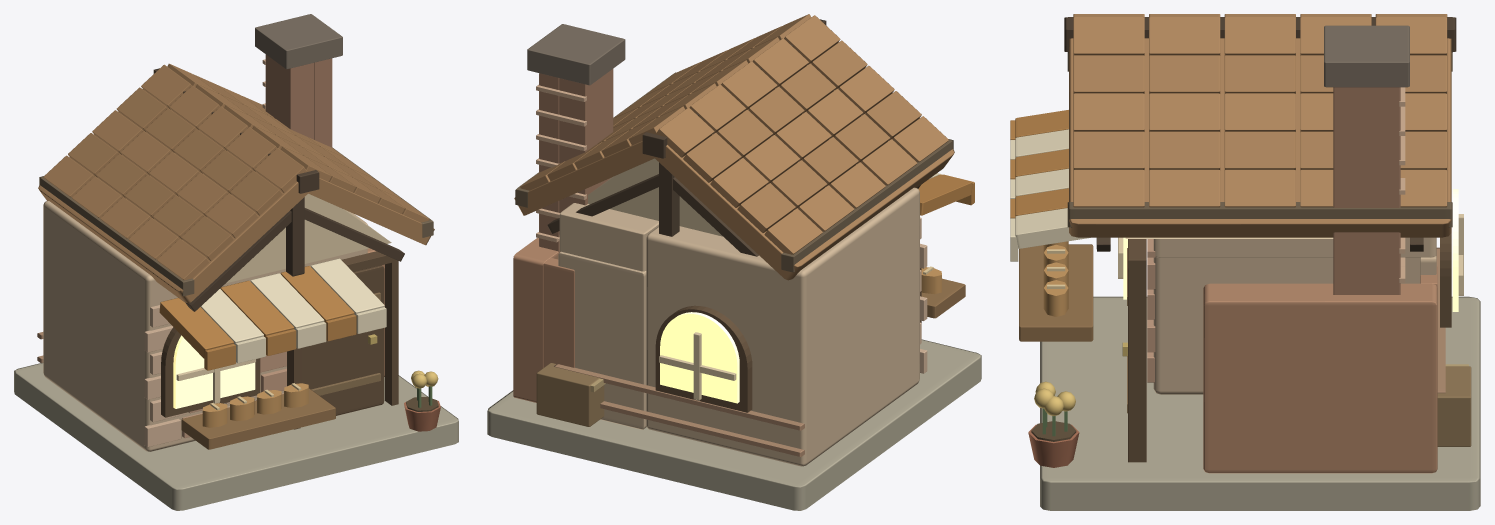
File: bakery-3.glb
3 views of the same model, side by side, from view 1: azimuth 30°, elevation 25°; view 2: azimuth 150°, elevation 25°; view 3: azimuth 270°, elevation 25° (orthographic). The views are drawn at different scales.
Visible parts, largest first — view 1: bakery-3-0, door-hinge; view 2: bakery-3-0; view 3: bakery-3-0.
Part boxes in pixels (box(x1,y1,x2,y2)): bakery-3-0: box(14, 14, 458, 510); door-hinge: box(300, 265, 384, 415); bakery-3-0: box(487, 14, 981, 510); bakery-3-0: box(1010, 14, 1480, 510).
Bounding box in the file's own units: 1.9 × 2.1 × 2.03.
